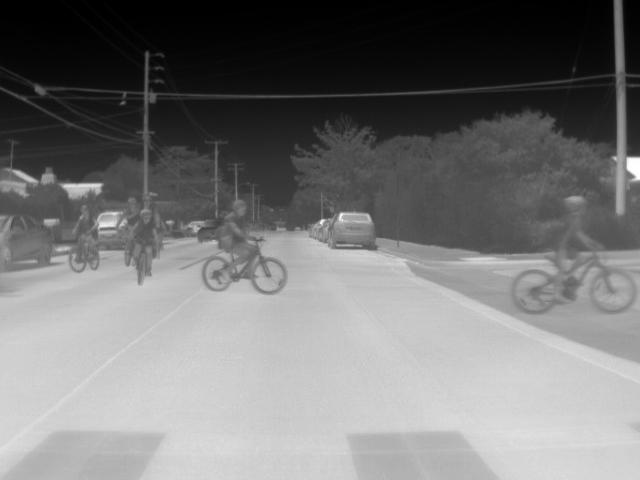car: (0, 212, 54, 268), (326, 211, 375, 247), (94, 210, 126, 253), (194, 218, 220, 244), (309, 219, 328, 239), (317, 220, 333, 242)
person: (547, 196, 601, 304), (214, 197, 261, 282), (116, 196, 148, 257), (129, 207, 159, 268), (70, 204, 99, 262)
